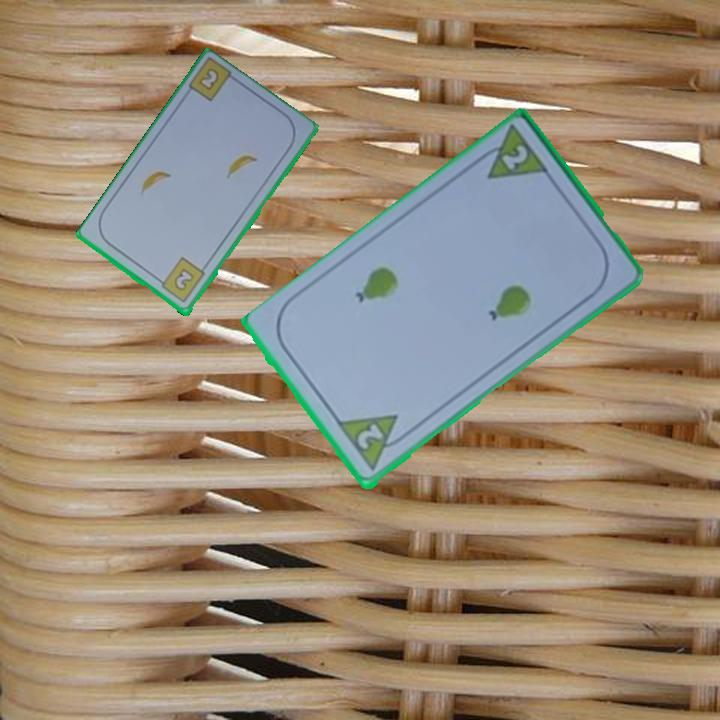2b: (154, 254, 208, 306), (197, 67, 220, 92)
2p: (471, 123, 553, 183), (353, 420, 386, 454)
